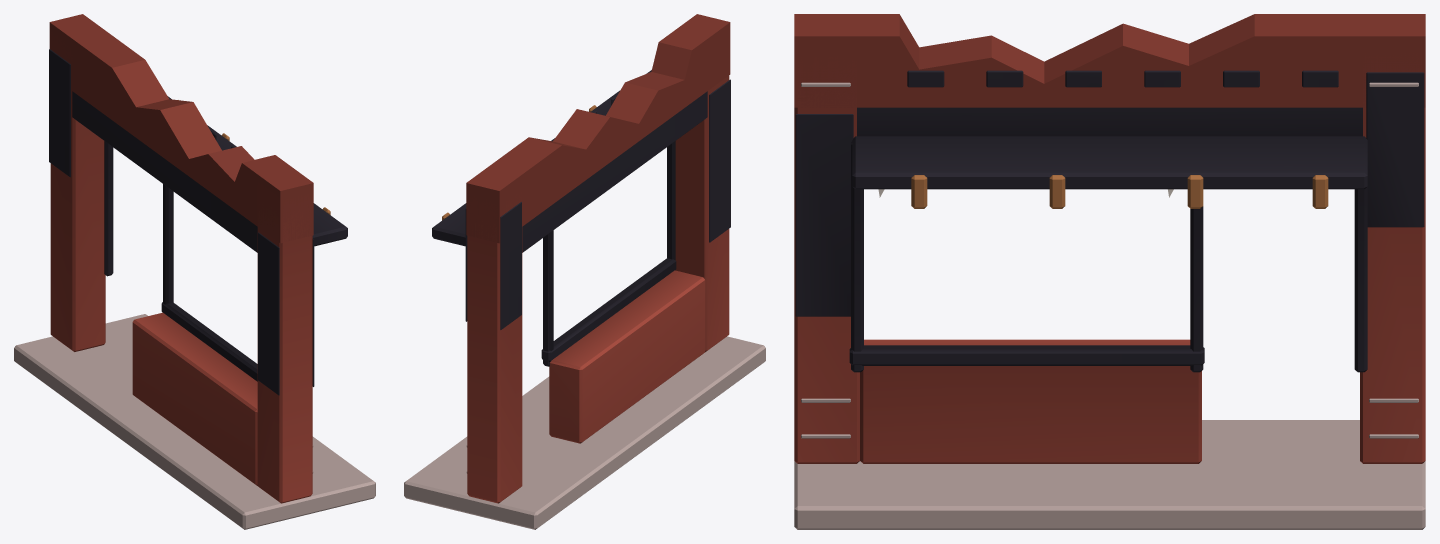
The picture shows the model from 3 angles, left to right: view 1: azimuth 30°, elevation 25°; view 2: azimuth 150°, elevation 25°; view 3: azimuth 270°, elevation 25°; orthographic projection. The views are drawn at different scales.
Parts seen in each view (by area): view 1: body_pal_brick, body_pal_sidewalk, body_pal_uiDark; view 2: body_pal_brick, body_pal_sidewalk, body_pal_uiDark; view 3: body_pal_brick, body_pal_uiDark, body_pal_sidewalk, body_pal_woodWarm.
Part boxes in pixels (x1,y1,x2,y2): body_pal_brick: (49,14,313,503); body_pal_sidewalk: (14,314,375,529); body_pal_uiDark: (49,49,347,395); body_pal_brick: (466,14,730,503); body_pal_sidewalk: (404,336,765,529); body_pal_uiDark: (432,70,730,366); body_pal_brick: (794,14,1425,463); body_pal_uiDark: (795,70,1424,372); body_pal_sidewalk: (794,82,1425,529); body_pal_woodWarm: (911,175,1328,208).
Size of the model in its own units: 1.6 by 3.8 by 4.8.
